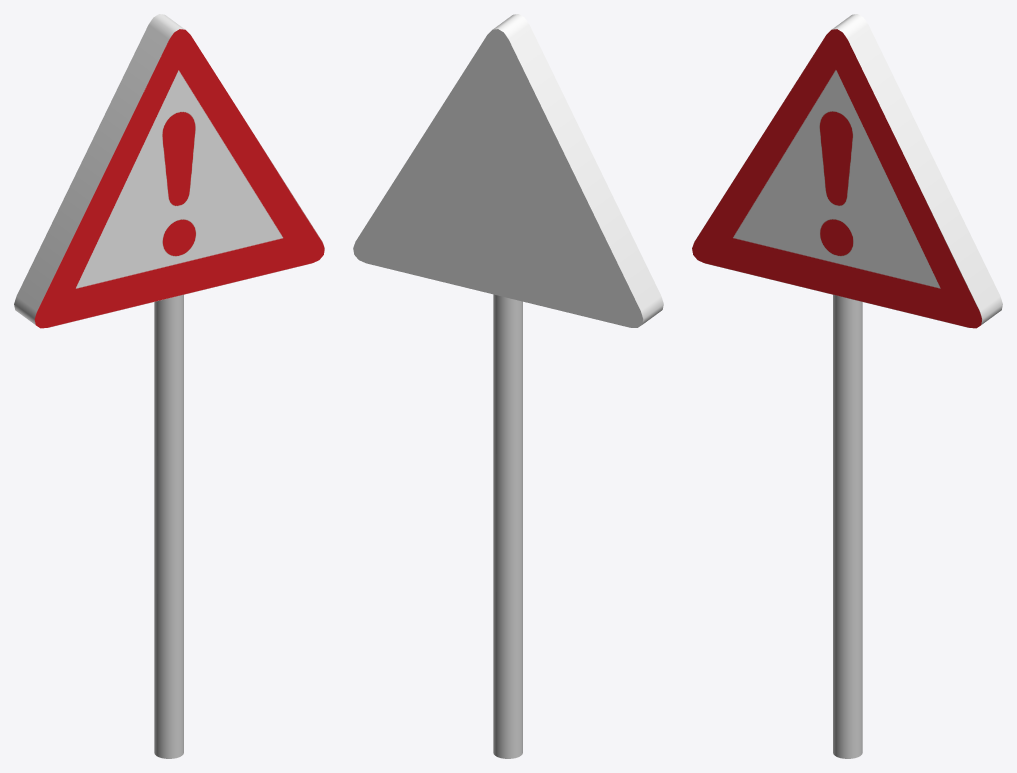
Rendered from warning.fbx.
3 views of the same model, side by side, from view 1: azimuth 30°, elevation 25°; view 2: azimuth 150°, elevation 25°; view 3: azimuth 330°, elevation 25° (orthographic).
Visible parts, largest first — view 1: warning; view 2: warning; view 3: warning.
Boxes of the visible parts, x1=… form: warning: x1=14, y1=14, x2=324, y2=758; warning: x1=353, y1=14, x2=663, y2=758; warning: x1=692, y1=14, x2=1002, y2=758.
Bounding box in the file's own units: 1.62 × 3.9 × 0.199.
